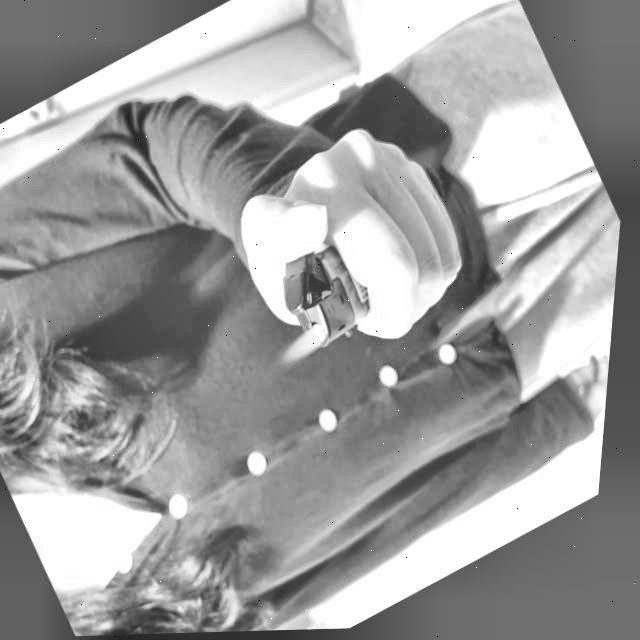Fire: (272, 323, 337, 373)
